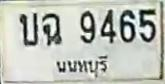4: (100, 8, 115, 43)
5: (138, 8, 155, 42)
6: (119, 8, 134, 42)
9: (79, 10, 94, 43)
A09: (41, 12, 61, 45)
A26: (18, 12, 38, 45)
NBI: (52, 54, 111, 81)
